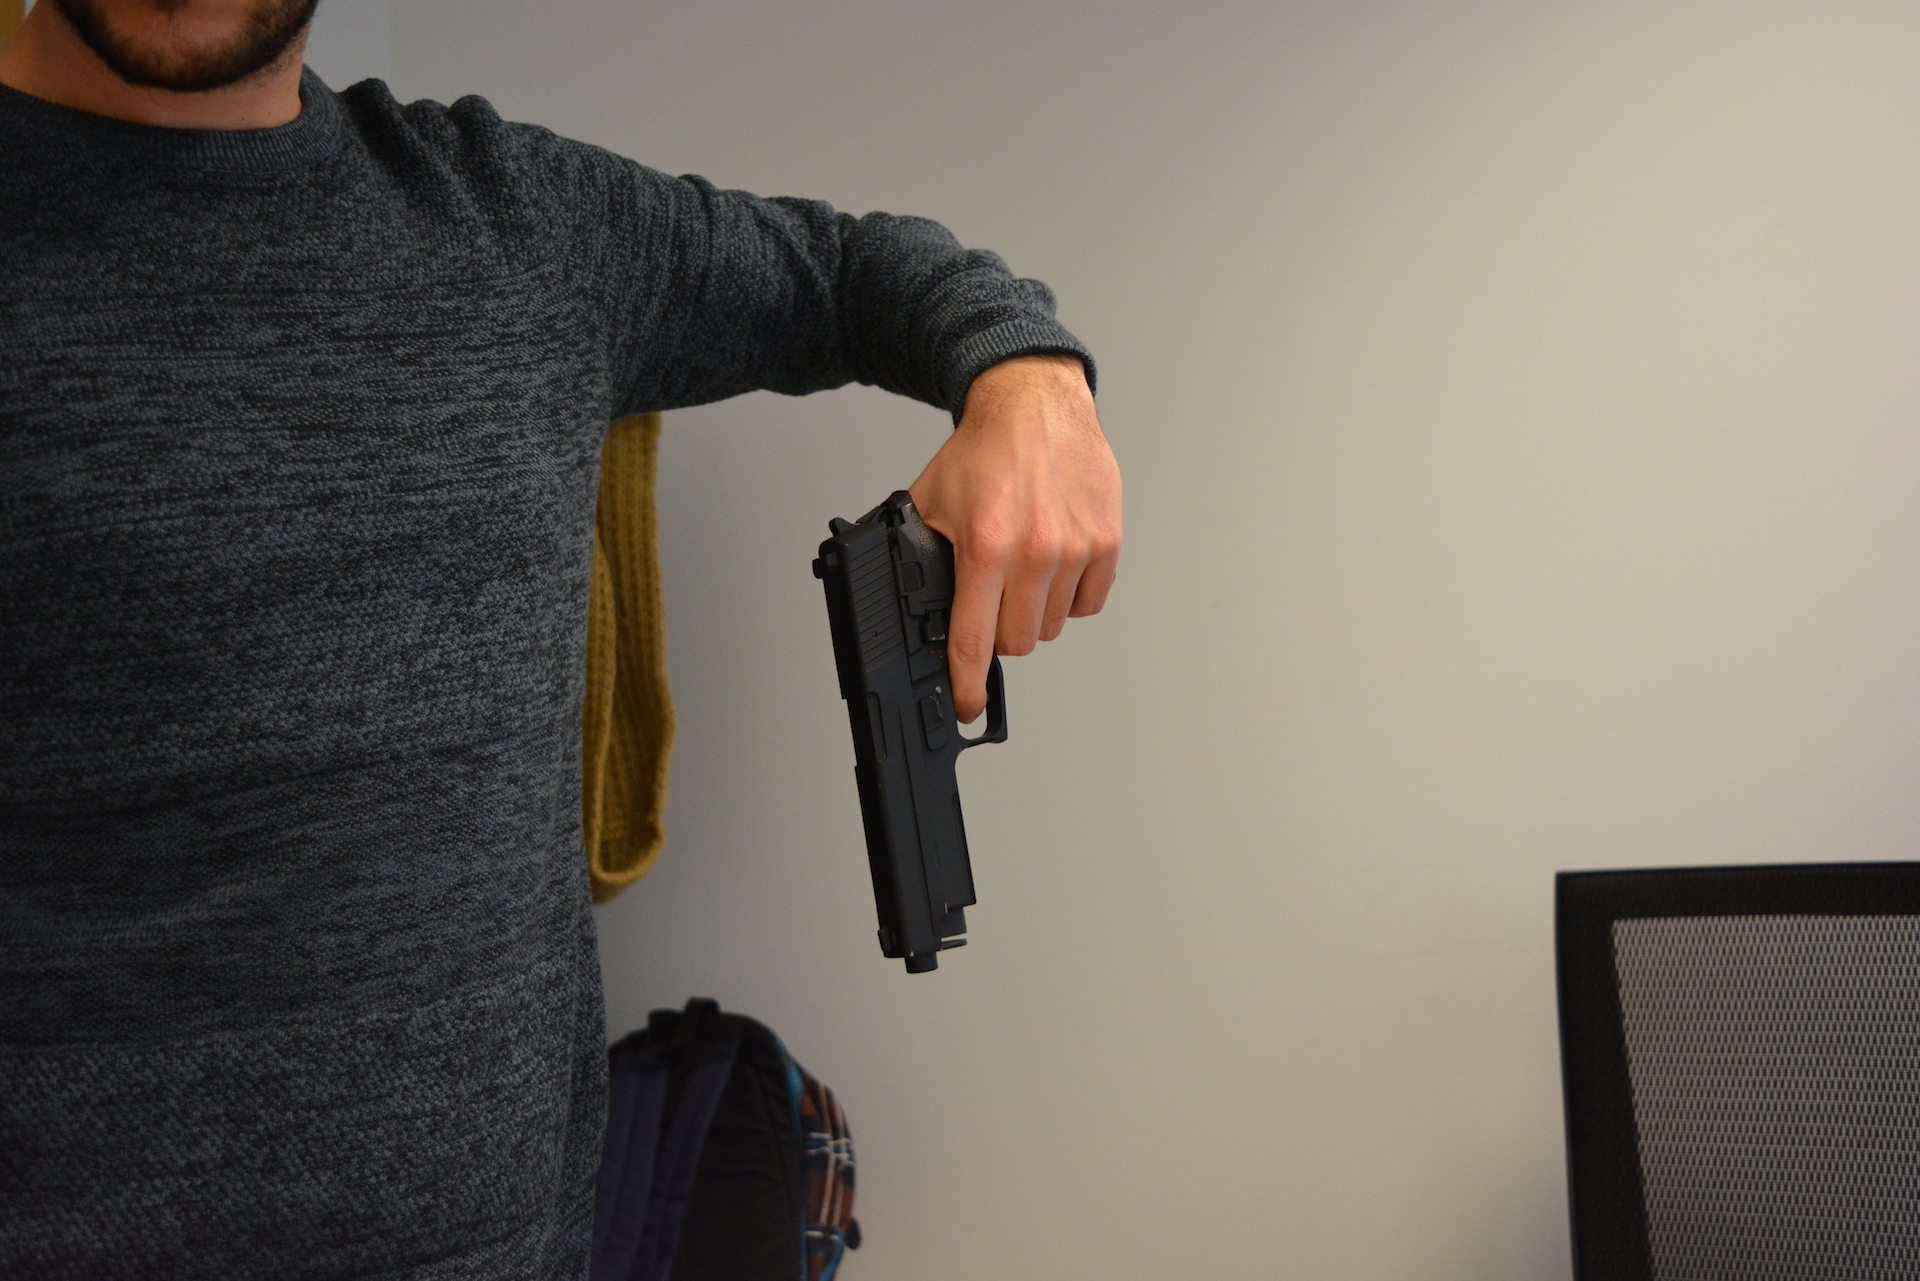pistol: (809, 485, 1014, 976)
